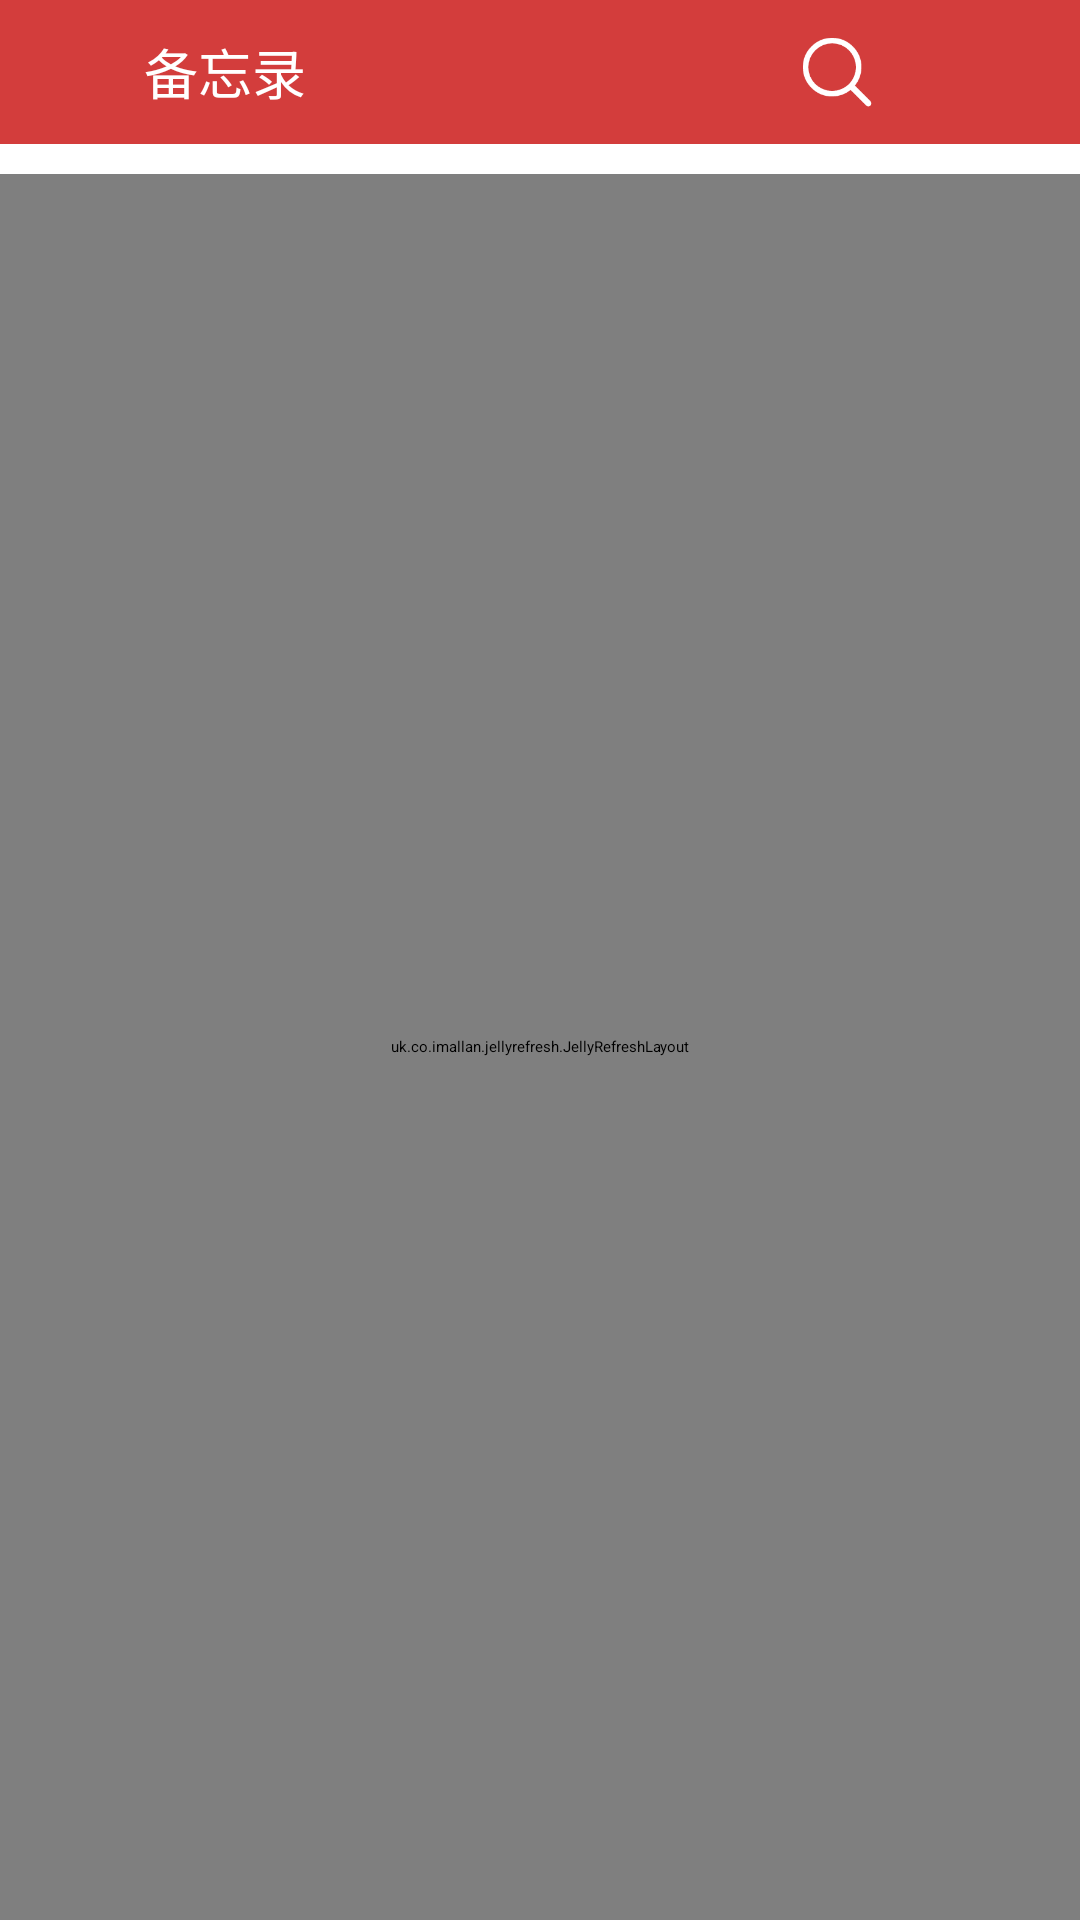

Where to tap for icons on this 1080 × 1920 app screen, as point (x, y):
search: point (837, 72)
